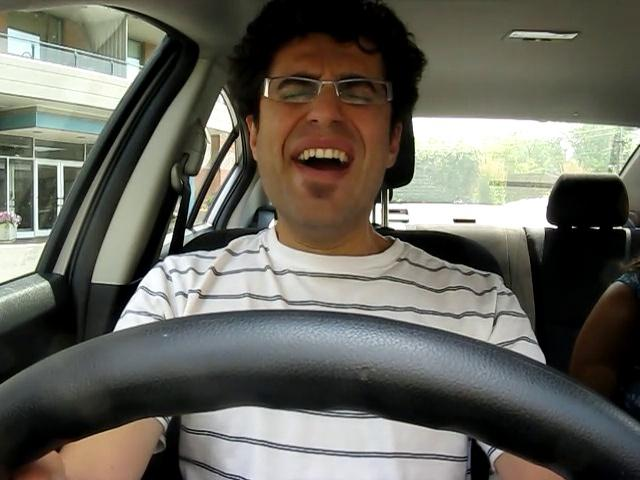close_eyeL: (269, 79, 322, 112)
close_eyeR: (331, 85, 387, 115)
yawn: (278, 140, 366, 185)
